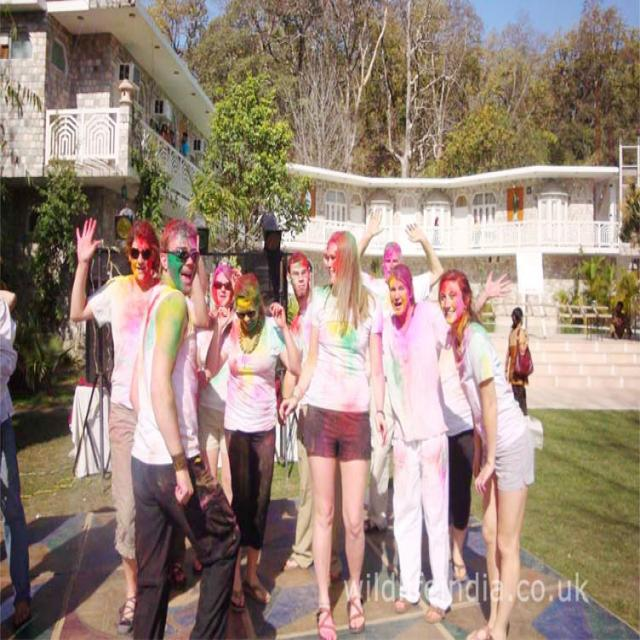body: (68, 215, 216, 636), (124, 209, 245, 639), (376, 260, 514, 632), (278, 227, 388, 639), (434, 265, 537, 639), (202, 265, 304, 617), (355, 205, 446, 537), (276, 251, 344, 584), (0, 286, 41, 633), (196, 254, 243, 510), (130, 98, 207, 161), (503, 305, 534, 419), (606, 298, 635, 347), (503, 184, 525, 235), (0, 276, 21, 313), (425, 206, 446, 241)
